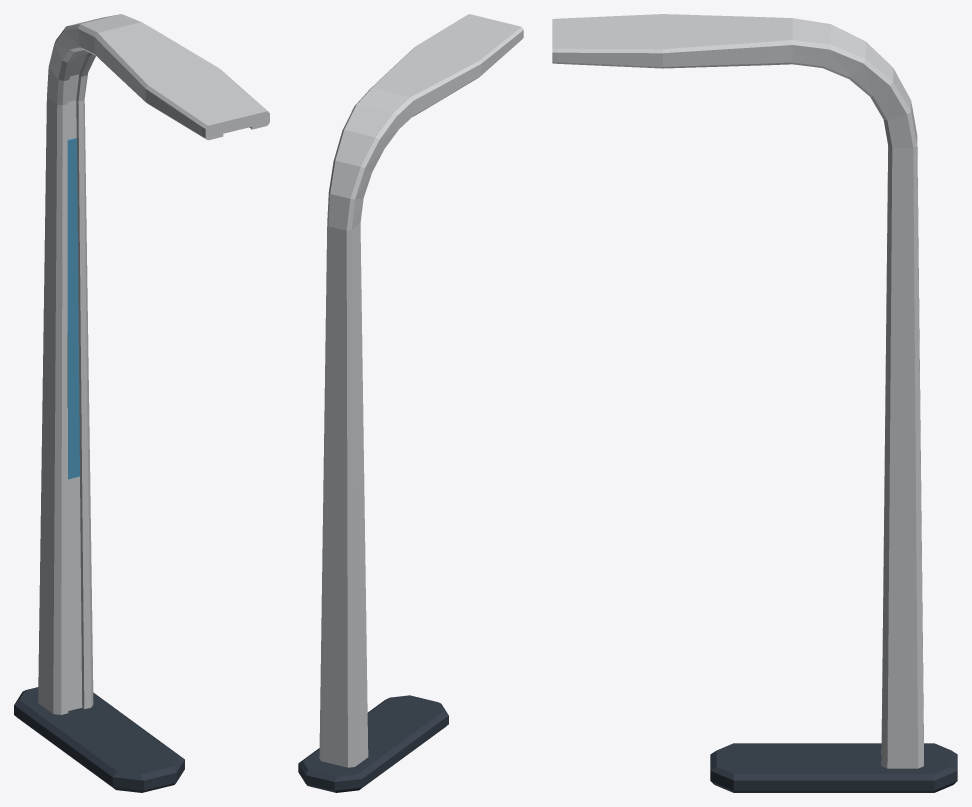
The model's file is pf-arc-street-lamp-bd9eab.glb.
3 views of the same model, side by side, from view 1: azimuth 30°, elevation 25°; view 2: azimuth 150°, elevation 25°; view 3: azimuth 270°, elevation 25° (orthographic). The views are drawn at different scales.
Visible parts, largest first — view 1: arc-street-lamp-body; view 2: arc-street-lamp-body; view 3: arc-street-lamp-body.
Part boxes in pixels (x1=…): arc-street-lamp-body: x1=14, y1=14, x2=269, y2=792; arc-street-lamp-body: x1=298, y1=14, x2=523, y2=792; arc-street-lamp-body: x1=552, y1=14, x2=957, y2=792.
Bounding box in the file's own units: 0.65 × 6 × 2.95.
